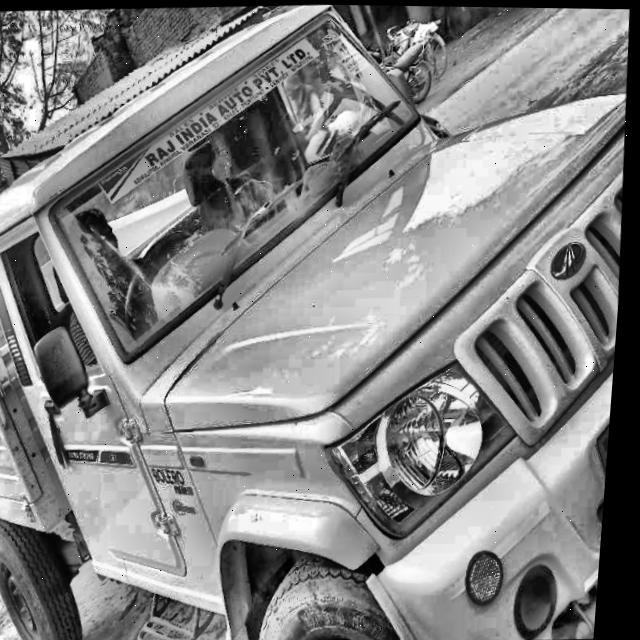light_vehicle: (0, 5, 640, 640)
